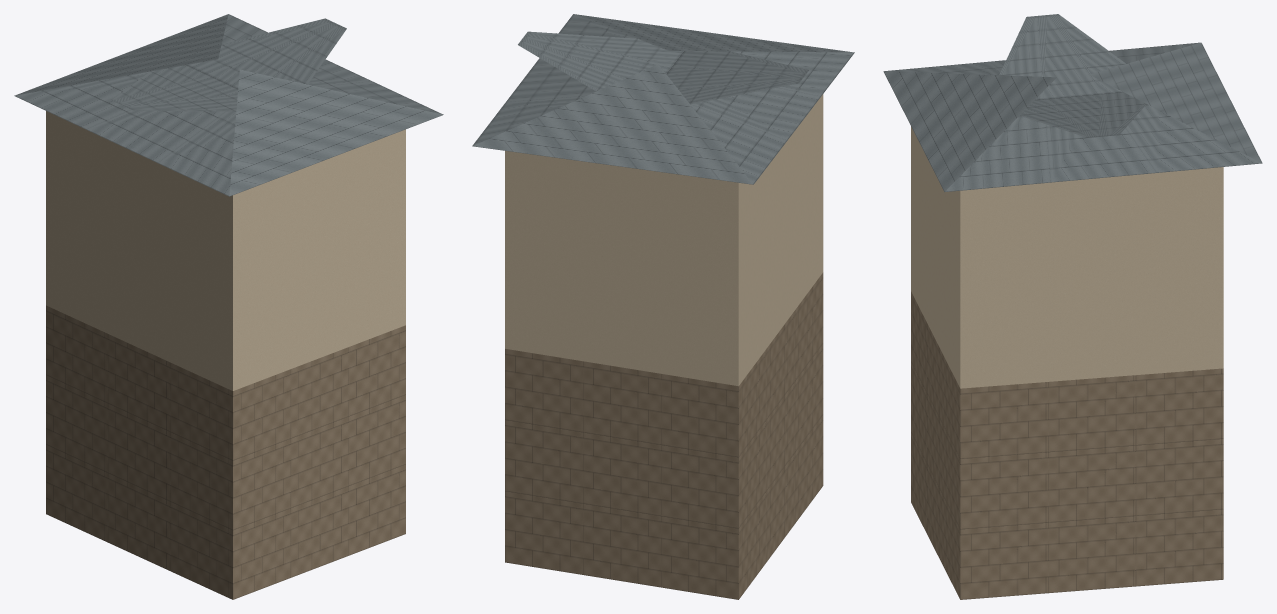
File: bld_c37_-11_546.gltf
The picture shows the model from 3 angles, left to right: view 1: azimuth 30°, elevation 25°; view 2: azimuth 150°, elevation 25°; view 3: azimuth 270°, elevation 25°; orthographic projection. The views are drawn at different scales.
Parts seen in each view (by area): view 1: bld_c37_-11_546; view 2: bld_c37_-11_546; view 3: bld_c37_-11_546.
Part boxes in pixels (left/top/right/bottom): bld_c37_-11_546: left=14, top=14, right=443, bottom=599; bld_c37_-11_546: left=472, top=14, right=854, bottom=599; bld_c37_-11_546: left=883, top=14, right=1262, bottom=599.
Bounding box in the file's own units: 7.75 × 11.2 × 8.3.
3 materials, 3 textured.
